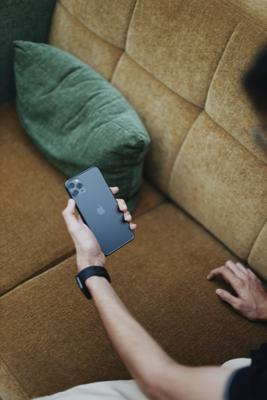cell-phone: (60, 164, 139, 258)
